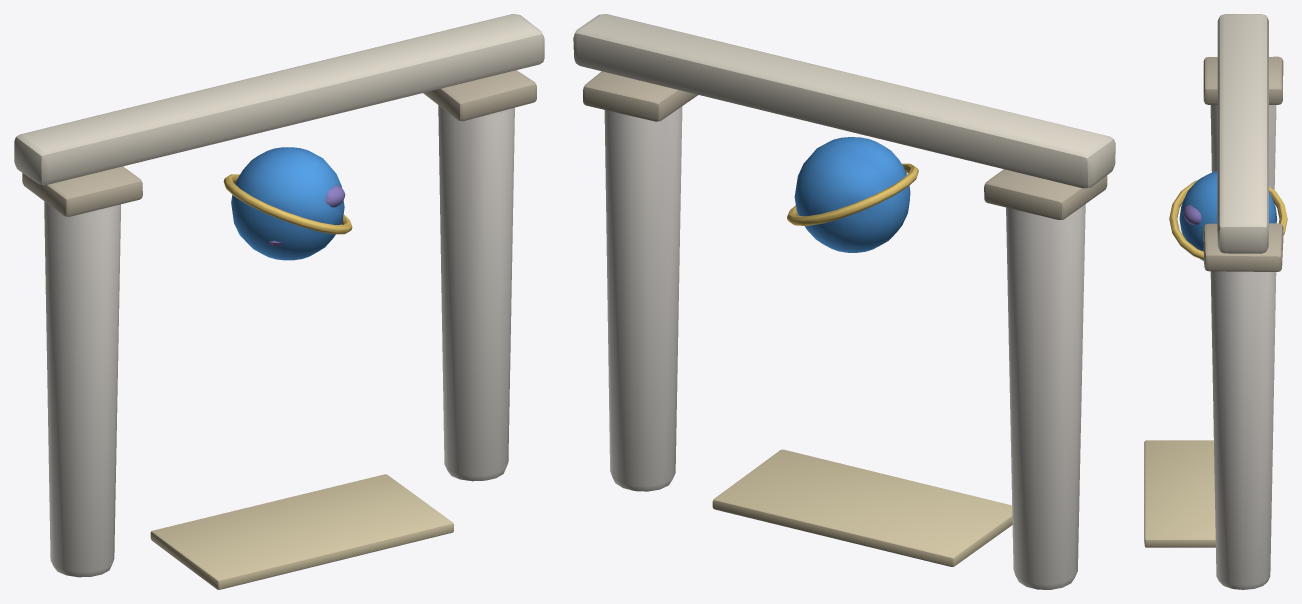
3 views of the same model, side by side, from view 1: azimuth 30°, elevation 25°; view 2: azimuth 150°, elevation 25°; view 3: azimuth 270°, elevation 25° (orthographic). The views are drawn at different scales.
Parts seen in each view (by area): view 1: gate_7e0a3040; view 2: gate_7e0a3040; view 3: gate_7e0a3040.
Boxes of the visible parts, x1=… form: gate_7e0a3040: x1=14, y1=14, x2=544, y2=589; gate_7e0a3040: x1=573, y1=14, x2=1115, y2=589; gate_7e0a3040: x1=1144, y1=14, x2=1287, y2=589.
Size of the model in its own units: 5.14 by 4.25 by 1.45.
